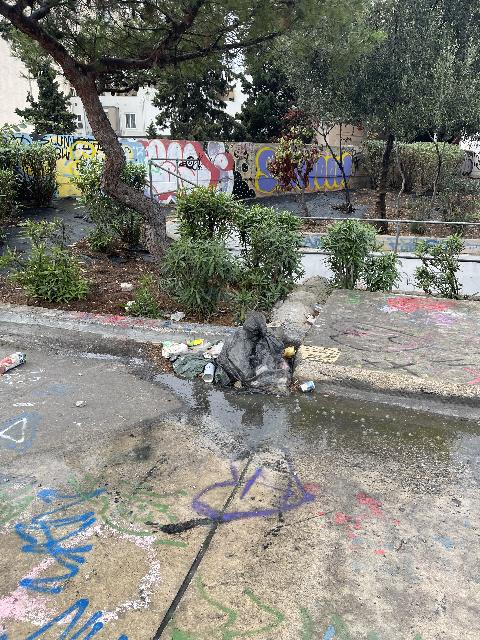Other: (172, 354, 210, 379), (0, 352, 26, 375), (162, 341, 191, 359), (304, 304, 322, 324), (203, 341, 224, 358), (188, 339, 211, 354), (202, 363, 215, 383), (300, 381, 315, 393), (283, 346, 296, 358), (170, 311, 185, 321), (187, 339, 203, 347)
Recyclable -Grey-: (215, 310, 290, 395)
